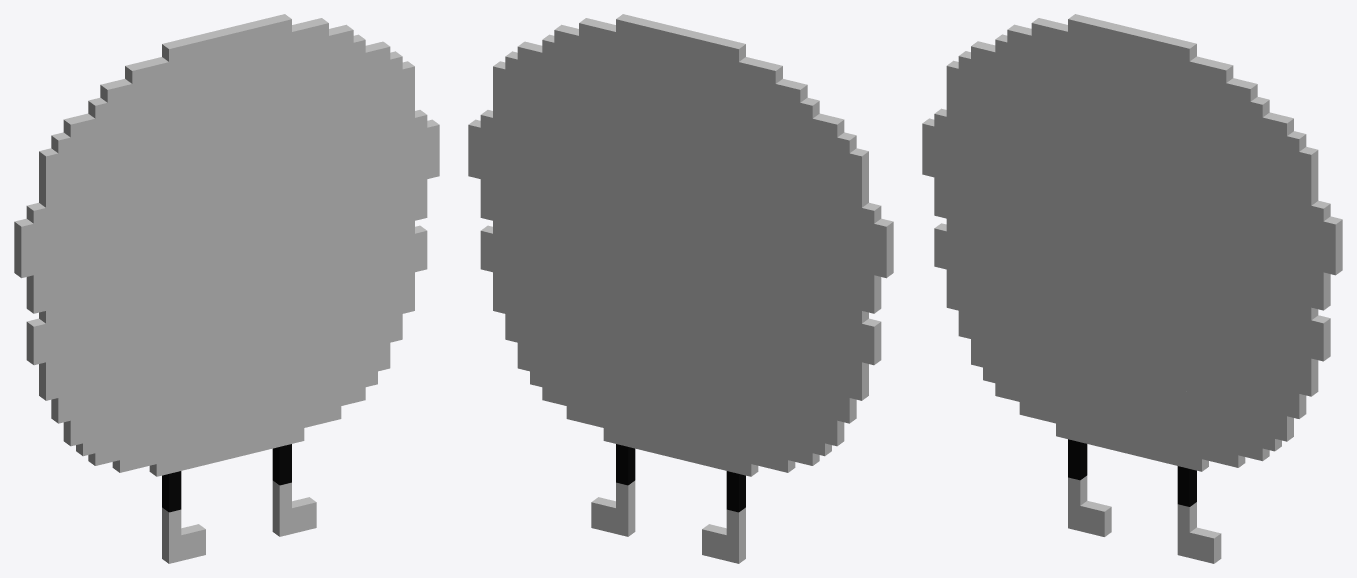
Rendered from hamburger.fbx.
3 views of the same model, side by side, from view 1: azimuth 30°, elevation 25°; view 2: azimuth 150°, elevation 25°; view 3: azimuth 330°, elevation 25° (orthographic).
Visible parts, largest first — view 1: Newburger-3, Newburger-6, Newburger-4, Newburger-7, Newburger-5, Newburger-1, Newburger-0; view 2: Newburger-3, Newburger-6, Newburger-4, Newburger-7, Newburger-5, Newburger-1, Newburger-0; view 3: Newburger-3, Newburger-6, Newburger-4, Newburger-7, Newburger-5, Newburger-1, Newburger-0.
Boxes of the visible parts, x1,y1,x2,y2 form: Newburger-3: (39, 14, 414, 264); Newburger-6: (51, 314, 402, 476); Newburger-4: (14, 110, 439, 322); Newburger-7: (26, 225, 427, 410); Newburger-5: (26, 192, 427, 354); Newburger-1: (162, 480, 316, 563); Newburger-0: (162, 444, 291, 512); Newburger-3: (493, 14, 868, 264); Newburger-6: (505, 314, 856, 476); Newburger-4: (468, 110, 893, 322); Newburger-7: (480, 225, 881, 410); Newburger-5: (480, 192, 881, 354); Newburger-1: (591, 480, 745, 563); Newburger-0: (616, 444, 745, 512); Newburger-3: (946, 14, 1318, 261); Newburger-6: (958, 311, 1306, 471); Newburger-4: (922, 108, 1342, 318); Newburger-7: (934, 223, 1330, 405); Newburger-5: (934, 190, 1330, 351); Newburger-1: (1068, 475, 1221, 563); Newburger-0: (1068, 439, 1196, 506).
Bounding box in the file's own units: 3.4 × 0.1 × 4.
